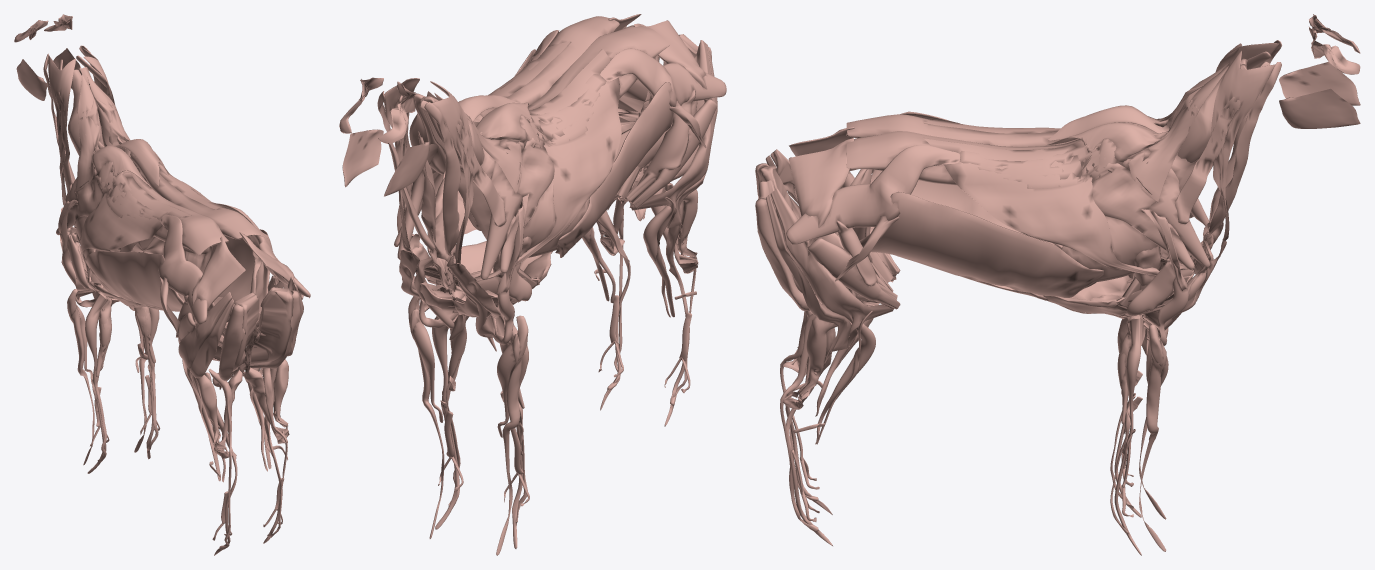
The model's file is muscular.glb.
3 renders of one model, left to right at view 1: azimuth 30°, elevation 25°; view 2: azimuth 150°, elevation 25°; view 3: azimuth 270°, elevation 25°, orthographic. The views are drawn at different scales.
Visible parts, largest first — view 1: horse_muscular_epaxial_L, horse_muscular_latissimus-dorsi_L, horse_muscular_obliquus-externus-abdominis_L, horse_muscular_epaxial_R, horse_muscular_trapezius_L, horse_muscular_gluteus-medius_L, horse_muscular_semimembranosus_R, horse_muscular_trapezius_R, horse_muscular_obliquus-externus-abdominis_R, horse_muscular_gluteus-superficialis_L, horse_muscular_brachiocephalicus_cleidocephalicus_L, horse_muscular_biceps-femoris_cranial_L (+35 smaller); view 2: horse_muscular_latissimus-dorsi_L, horse_muscular_epaxial_L, horse_muscular_epaxial_R, horse_muscular_obliquus-externus-abdominis_L, horse_muscular_gluteus-medius_L, horse_muscular_trapezius_L, horse_muscular_serratus-ventralis_L, horse_muscular_infraspinatus_L, horse_muscular_sternocephalicus_L, horse_muscular_supraspinatus_L, horse_muscular_biceps-femoris_cranial_L, horse_muscular_quadriceps-femoris_rectus-femoris_L (+49 smaller); view 3: horse_muscular_obliquus-externus-abdominis_R, horse_muscular_latissimus-dorsi_R, horse_muscular_epaxial_R, horse_muscular_gluteus-medius_R, horse_muscular_trapezius_R, horse_muscular_infraspinatus_R, horse_muscular_epaxial_L, horse_muscular_biceps-femoris_cranial_R, horse_muscular_brachiocephalicus_cleidocephalicus_R, horse_muscular_gluteus-superficialis_R, horse_muscular_serratus-ventralis_R, horse_muscular_masseter_R (+28 smaller).
Part boxes in pixels (x1,y1,x2,y2): horse_muscular_epaxial_L: [68, 69, 228, 255]; horse_muscular_latissimus-dorsi_L: [80, 172, 191, 254]; horse_muscular_obliquus-externus-abdominis_L: [84, 251, 227, 327]; horse_muscular_epaxial_R: [79, 67, 267, 239]; horse_muscular_trapezius_L: [75, 74, 151, 192]; horse_muscular_gluteus-medius_L: [158, 214, 207, 324]; horse_muscular_semimembranosus_R: [247, 287, 293, 363]; horse_muscular_trapezius_R: [87, 74, 162, 186]; horse_muscular_obliquus-externus-abdominis_R: [184, 229, 269, 324]; horse_muscular_gluteus-superficialis_L: [191, 236, 245, 328]; horse_muscular_brachiocephalicus_cleidocephalicus_L: [48, 55, 75, 205]; horse_muscular_biceps-femoris_cranial_L: [178, 292, 232, 392]; horse_muscular_latissimus-dorsi_L: [455, 49, 621, 289]; horse_muscular_epaxial_L: [424, 25, 670, 165]; horse_muscular_epaxial_R: [409, 16, 619, 174]; horse_muscular_obliquus-externus-abdominis_L: [555, 82, 673, 257]; horse_muscular_gluteus-medius_L: [600, 48, 726, 106]; horse_muscular_trapezius_L: [434, 93, 533, 193]; horse_muscular_serratus-ventralis_L: [458, 131, 589, 257]; horse_muscular_infraspinatus_L: [500, 125, 555, 273]; horse_muscular_sternocephalicus_L: [424, 102, 460, 291]; horse_muscular_supraspinatus_L: [480, 114, 536, 280]; horse_muscular_biceps-femoris_cranial_L: [629, 40, 717, 227]; horse_muscular_quadriceps-femoris_rectus-femoris_L: [624, 90, 695, 202]; horse_muscular_obliquus-externus-abdominis_R: [860, 191, 1103, 297]; horse_muscular_latissimus-dorsi_R: [923, 138, 1193, 276]; horse_muscular_epaxial_R: [846, 64, 1247, 188]; horse_muscular_gluteus-medius_R: [786, 145, 960, 244]; horse_muscular_trapezius_R: [1047, 66, 1228, 202]; horse_muscular_infraspinatus_R: [1077, 154, 1194, 269]; horse_muscular_epaxial_L: [846, 58, 1248, 146]; horse_muscular_biceps-femoris_cranial_R: [770, 188, 893, 347]; horse_muscular_brachiocephalicus_cleidocephalicus_R: [1211, 50, 1275, 246]; horse_muscular_gluteus-superficialis_R: [788, 138, 854, 255]; horse_muscular_serratus-ventralis_R: [1061, 129, 1198, 281]; horse_muscular_masseter_R: [1279, 88, 1360, 128].
Size of the model in its own units: 0.6524 by 2 by 2.14.
